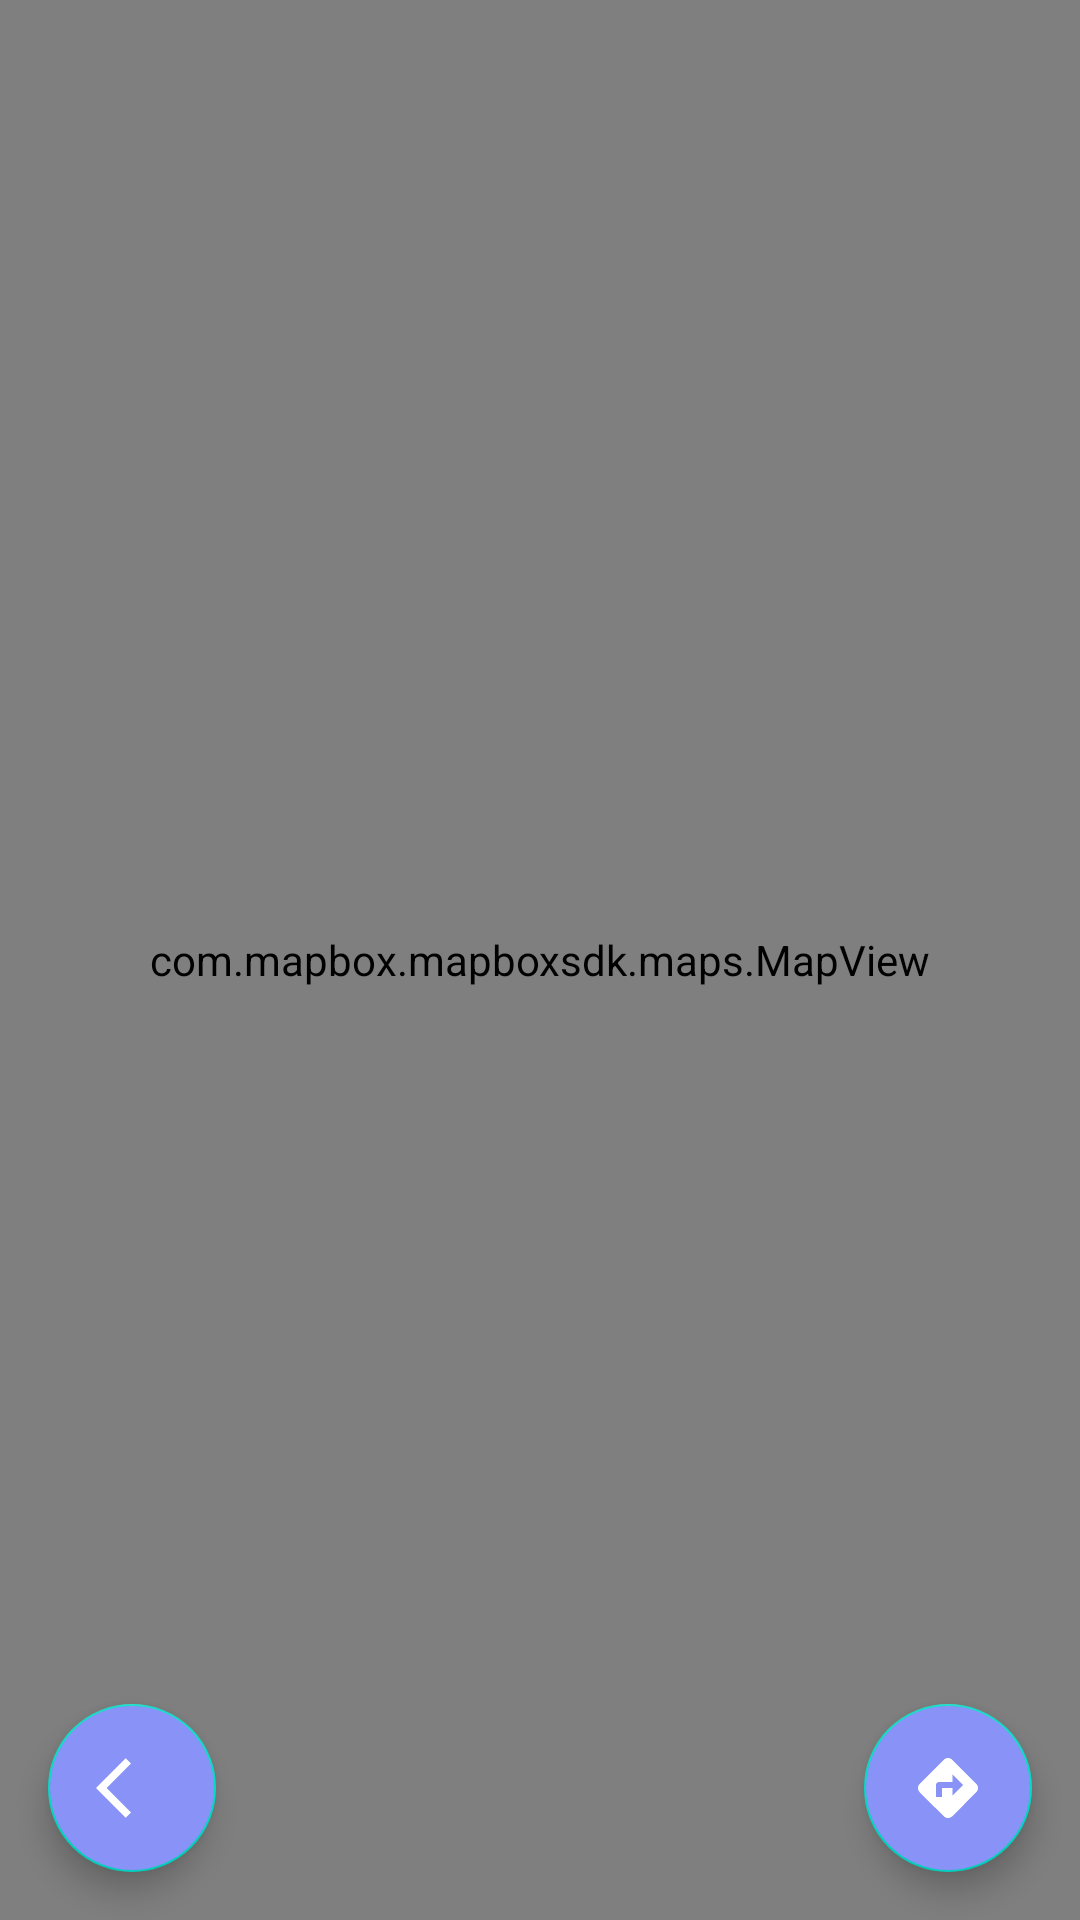

Point at icon controls on the screen. Image size 1080x1920, points as (x=x, y=y).
Go Back: (x=132, y=1788)
Show Direction: (x=948, y=1788)
